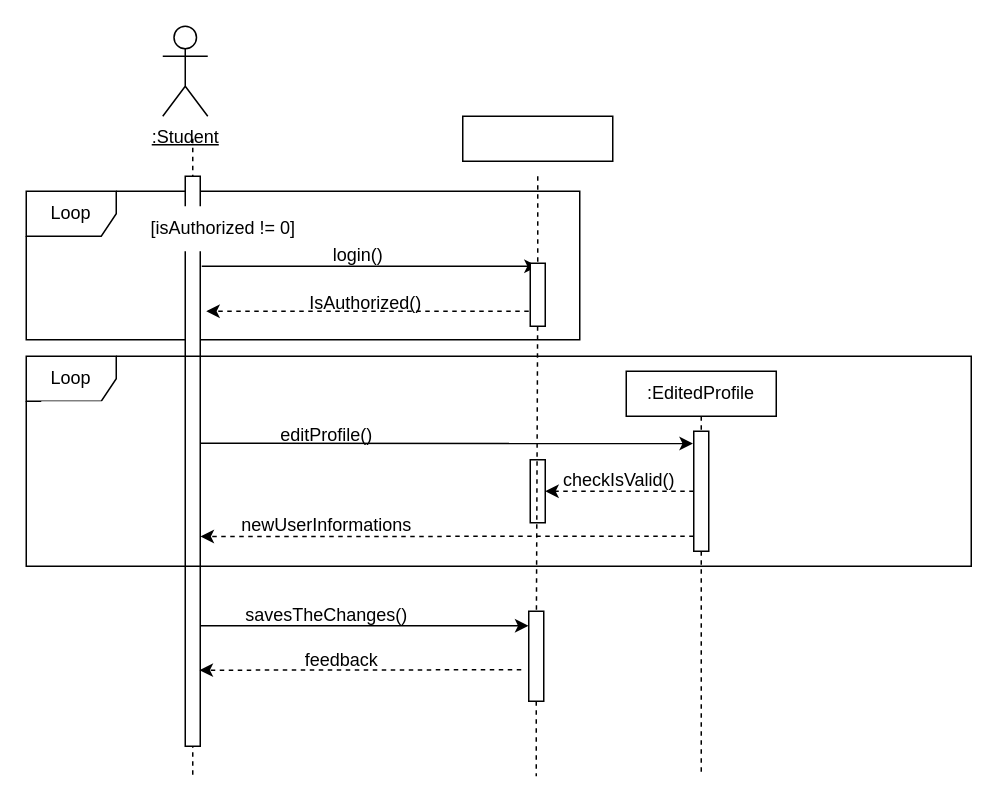
Image size: 998x804. Some labels were removed from this diagram. The shapes that lost their labels are listed below. From the top down, each one's centre as x and y in pixels, then its label:
At (x=537, y=138): ":System".
At (x=100, y=423): "[isValid !=0]".
